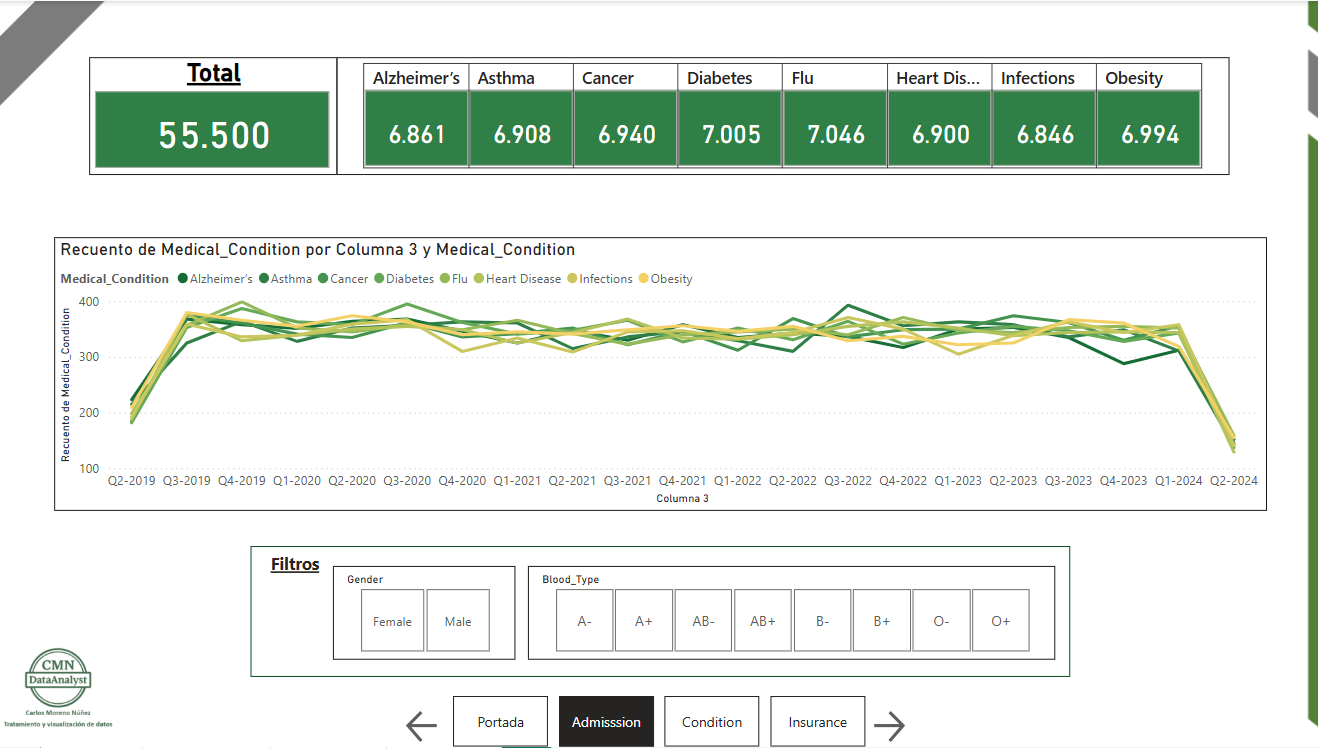

This screenshot's page, from the dashboard's own definition file:
{"tool":"powerbi","page":{"name":"Admisssion","canvas":[1280,720],"ordinal":1},"visuals":[{"type":"image","box":[0,604.4,115.8,115.8],"z":0},{"type":"cardVisual","title":"Total","fields":{"Data":["modified_healthcare_dataset.Name"]},"box":[88.1,54.5,238.9,113.4],"z":1000},{"type":"cardVisual","fields":{"Data":["modified_healthcare_dataset.Medical_Condition"],"Rows":["modified_healthcare_dataset.Medical_Condition"]},"box":[326.9,54.5,861.4,113.4],"z":2000},{"type":"lineChart","fields":{"Y":["modified_healthcare_dataset.Medical_Condition"],"Series":["modified_healthcare_dataset.Medical_Condition"],"Category":["modified_healthcare_dataset.Columna 3"]},"box":[54.3,228,1170.2,264.2],"z":3000},{"type":"shape","box":[243.7,526,791.4,126.7],"z":3500},{"type":"pageNavigator","box":[439.1,670.5,400.5,49.5],"z":4000},{"type":"actionButton","box":[839.7,680.2,49.5,39.8],"z":5000},{"type":"actionButton","box":[389.7,680.2,49.5,39.8],"z":6000},{"type":"textbox","box":[258.2,526.7,68.8,37.4],"z":7000},{"type":"slicer","fields":{"Values":["modified_healthcare_dataset.Gender"]},"box":[323.3,545.3,176.1,90.5],"z":9000},{"type":"slicer","fields":{"Values":["modified_healthcare_dataset.Blood_Type"]},"box":[511.5,545.3,509.1,90.5],"z":10000}]}

Visuals, with their boxes in screenshot pixels (x1, y1, x2, y2), scaled from the page's 1280x720 canvas onto the 1318x748 screenshot:
image: Rect(0, 628, 119, 747)
"Total" cardVisual: Rect(91, 57, 337, 174)
cardVisual - modified_healthcare_dataset.Medical_Condition x modified_healthcare_dataset.Medical_Condition: Rect(337, 57, 1224, 174)
lineChart - modified_healthcare_dataset.Medical_Condition x modified_healthcare_dataset.Medical_Condition: Rect(56, 237, 1261, 511)
shape: Rect(251, 546, 1066, 678)
pageNavigator: Rect(452, 697, 865, 747)
actionButton: Rect(865, 707, 916, 747)
actionButton: Rect(401, 707, 452, 747)
textbox: Rect(266, 547, 337, 586)
slicer - modified_healthcare_dataset.Gender: Rect(333, 567, 514, 661)
slicer - modified_healthcare_dataset.Blood_Type: Rect(527, 567, 1051, 661)
